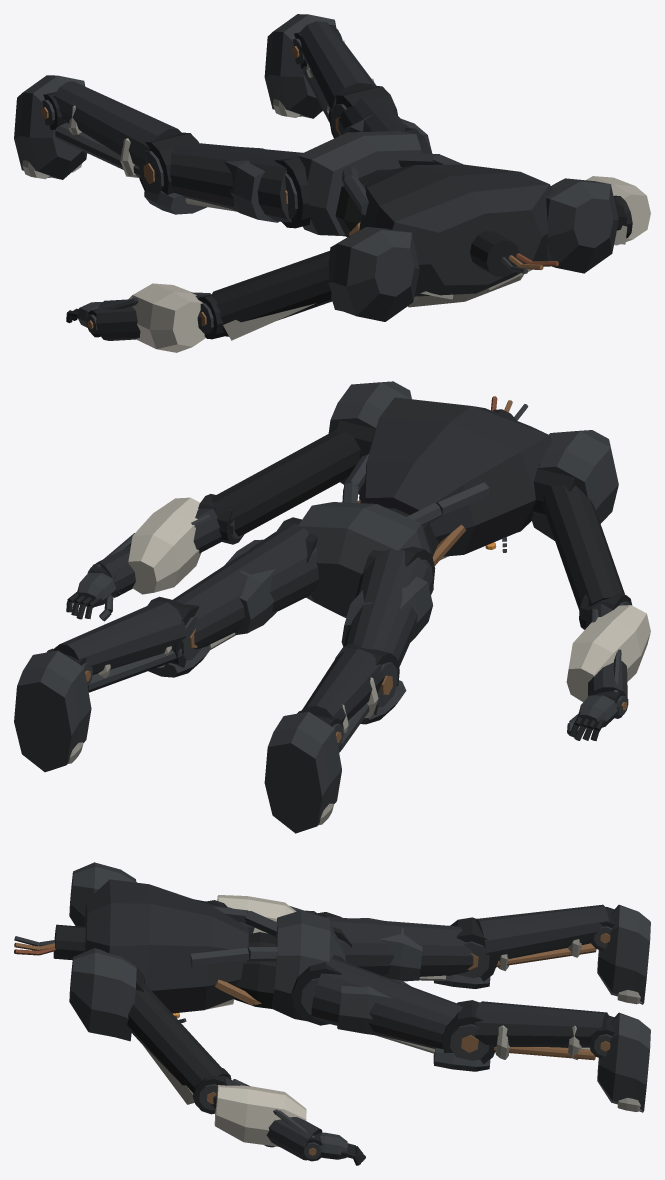
Rendered from A-14_don_15_wreck.glb.
3 views of the same model, one above another, from view 1: azimuth 30°, elevation 25°; view 2: azimuth 150°, elevation 25°; view 3: azimuth 270°, elevation 25° (orthographic). The views are drawn at different scales.
Parts seen in each view (by area): view 1: A-14_don_15_wreck; view 2: A-14_don_15_wreck; view 3: A-14_don_15_wreck.
Part boxes in pixels (x1,y1,x2,y2): A-14_don_15_wreck: (14,14,650,352); A-14_don_15_wreck: (14,381,650,833); A-14_don_15_wreck: (14,862,650,1165).
Size of the model in its own units: 1.37 by 0.4304 by 1.6.
